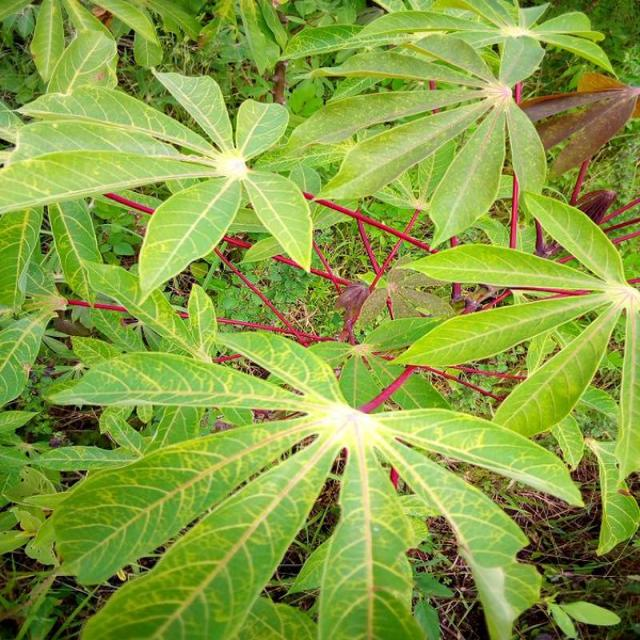cassava leaf: (0, 2, 638, 637), (0, 67, 315, 303)
